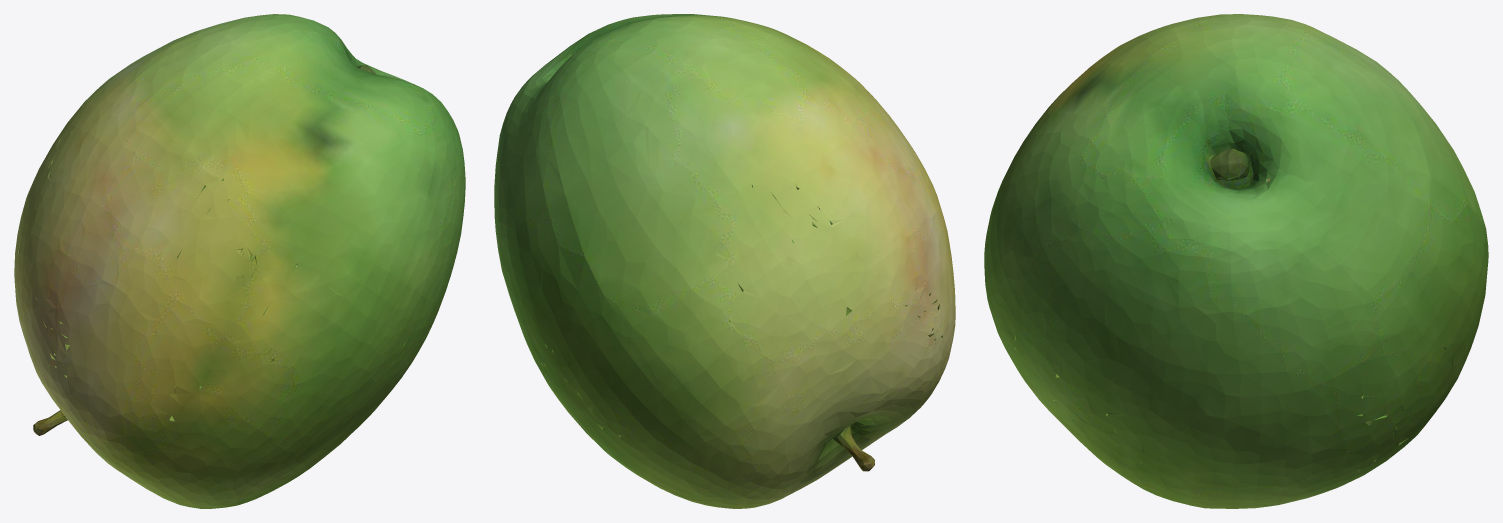
Rendered from yellow_and_green_pear_on_the_far_right_000.glb.
The picture shows the model from 3 angles, left to right: view 1: azimuth 30°, elevation 25°; view 2: azimuth 150°, elevation 25°; view 3: azimuth 270°, elevation 25°; orthographic projection. The views are drawn at different scales.
Parts seen in each view (by area): view 1: yellow_and_green_pear_on_the_far_right_000.obj; view 2: yellow_and_green_pear_on_the_far_right_000.obj; view 3: yellow_and_green_pear_on_the_far_right_000.obj.
Boxes of the visible parts, x1,y1,x2,y2 form: yellow_and_green_pear_on_the_far_right_000.obj: (14, 14, 465, 508); yellow_and_green_pear_on_the_far_right_000.obj: (494, 14, 955, 508); yellow_and_green_pear_on_the_far_right_000.obj: (984, 14, 1488, 508).
Size of the model in its own units: 0.1976 by 0.2071 by 0.1935.
Materials: 1 (1 with a texture image).
